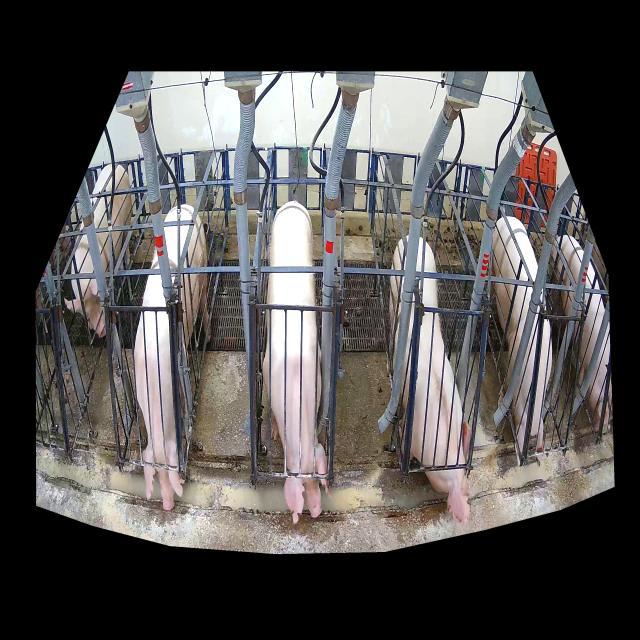pig: (389, 235, 472, 527), (133, 205, 212, 511), (262, 200, 332, 525), (490, 217, 552, 465), (549, 236, 613, 427), (64, 164, 133, 338)
